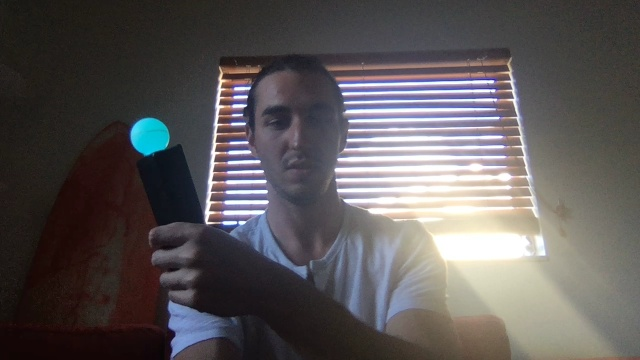wand: (131, 118, 170, 155)
